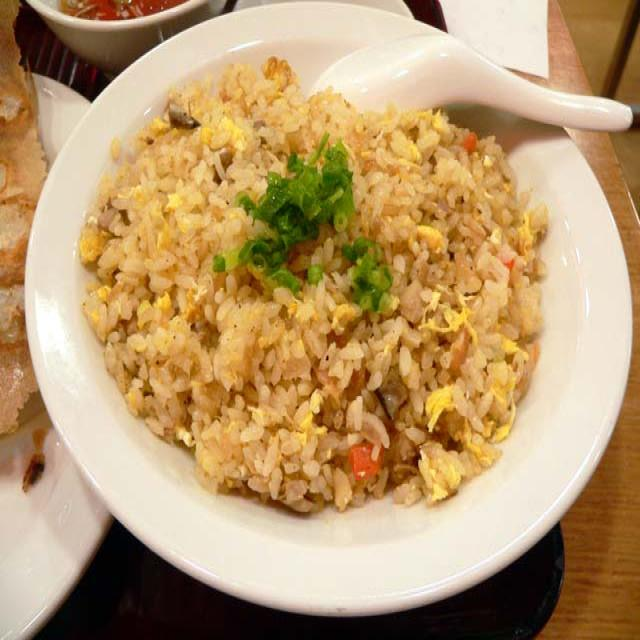米饭主食: (18, 0, 640, 640)
